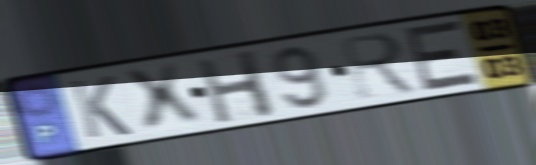9: (270, 43, 331, 111)
E: (403, 17, 483, 95)
H: (193, 47, 279, 126)
K: (66, 73, 135, 141)
R: (336, 29, 423, 102)
X: (118, 60, 208, 136)
